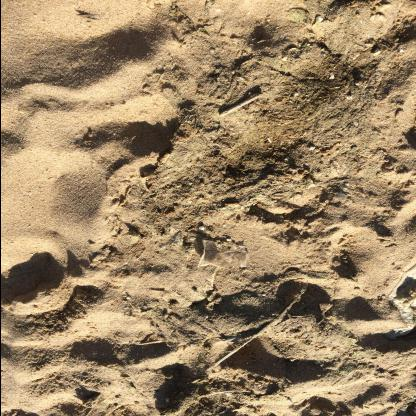plastik: (197, 238, 250, 268)
